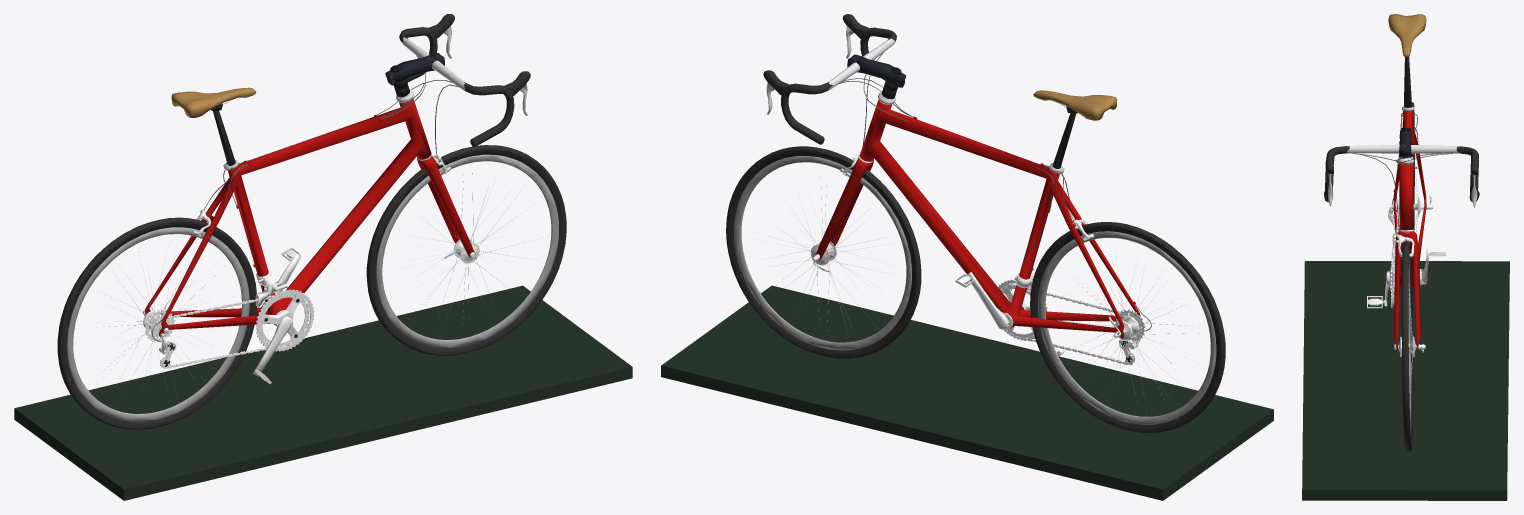
File: 134 - Pedalata Virtuale.glb
3 views of the same model, side by side, from view 1: azimuth 30°, elevation 25°; view 2: azimuth 150°, elevation 25°; view 3: azimuth 270°, elevation 25° (orthographic). The views are drawn at different scales.
Visible parts, largest first — view 1: 134 - pedalata virtuale; view 2: 134 - pedalata virtuale; view 3: 134 - pedalata virtuale.
Boxes of the visible parts, x1,y1,x2,y2 form: 134 - pedalata virtuale: (14,14,632,500); 134 - pedalata virtuale: (661,14,1273,500); 134 - pedalata virtuale: (1302,14,1509,500).
Bounding box in the file's own units: 2.15 × 1.33 × 0.8105.
